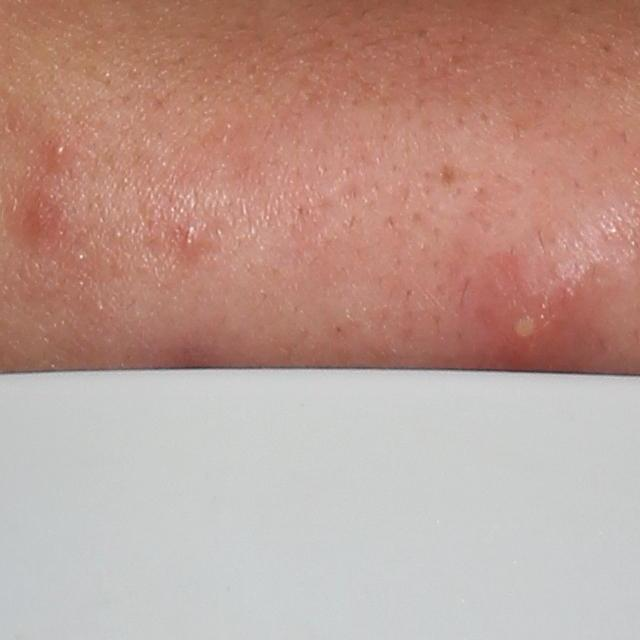papule: (21, 194, 62, 242), (176, 219, 212, 257), (45, 136, 75, 170)
pustule: (492, 269, 585, 368)
